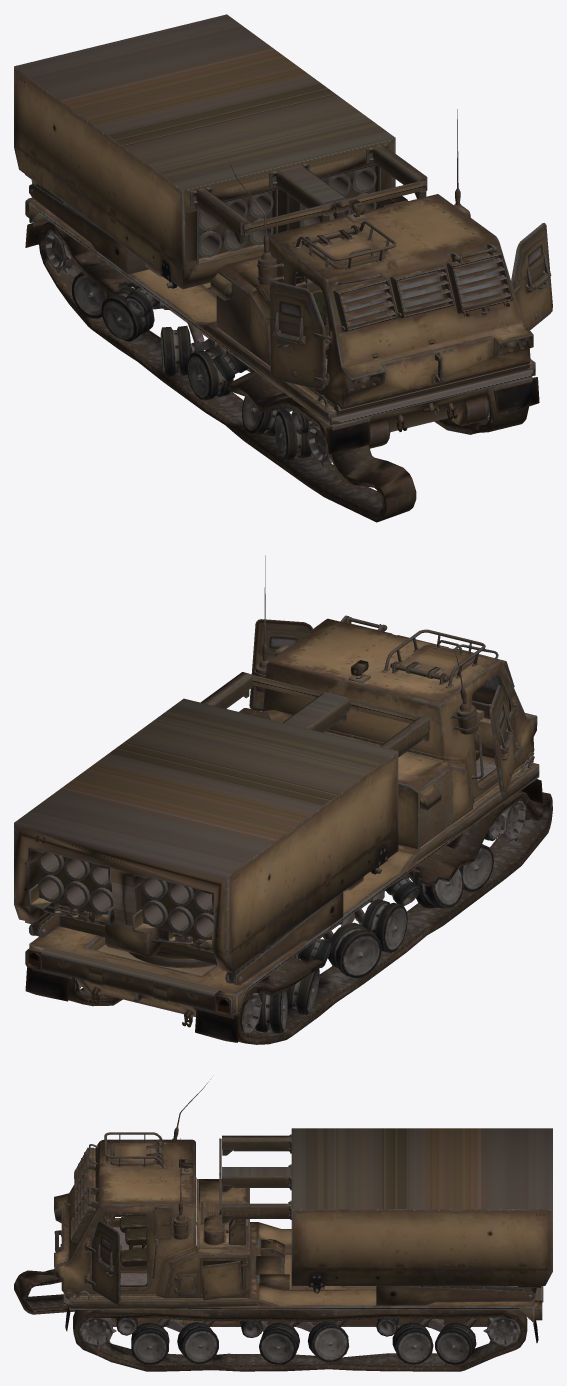
The model's file is mlrs_static.glb.
3 views of the same model, one above another, from view 1: azimuth 30°, elevation 25°; view 2: azimuth 150°, elevation 25°; view 3: azimuth 270°, elevation 25° (orthographic). The views are drawn at different scales.
Visible parts, largest first — view 1: mlrs_body_LOD0, mlrs_rocket_launcher, mlrs_rotator, mlrs_interior_LOD0; view 2: mlrs_rocket_launcher, mlrs_body_LOD0, mlrs_rotator, mlrs_interior_LOD0; view 3: mlrs_body_LOD0, mlrs_rocket_launcher, mlrs_rotator, mlrs_interior_LOD0.
Boxes of the visible parts, x1,y1,x2,y2 form: mlrs_body_LOD0: (25, 109, 552, 522); mlrs_rocket_launcher: (14, 14, 427, 289); mlrs_rotator: (29, 184, 148, 274); mlrs_interior_LOD0: (294, 271, 329, 373); mlrs_rocket_launcher: (14, 672, 430, 983); mlrs_body_LOD0: (25, 555, 552, 1044); mlrs_rotator: (29, 892, 343, 985); mlrs_interior_LOD0: (472, 676, 510, 786); mlrs_body_LOD0: (14, 1078, 543, 1371); mlrs_rocket_launcher: (219, 1128, 552, 1298); mlrs_rotator: (376, 1286, 535, 1305); mlrs_interior_LOD0: (91, 1214, 147, 1287).
Size of the model in its own units: 3.89 by 4.36 by 8.76.
3 materials, 3 textured.
